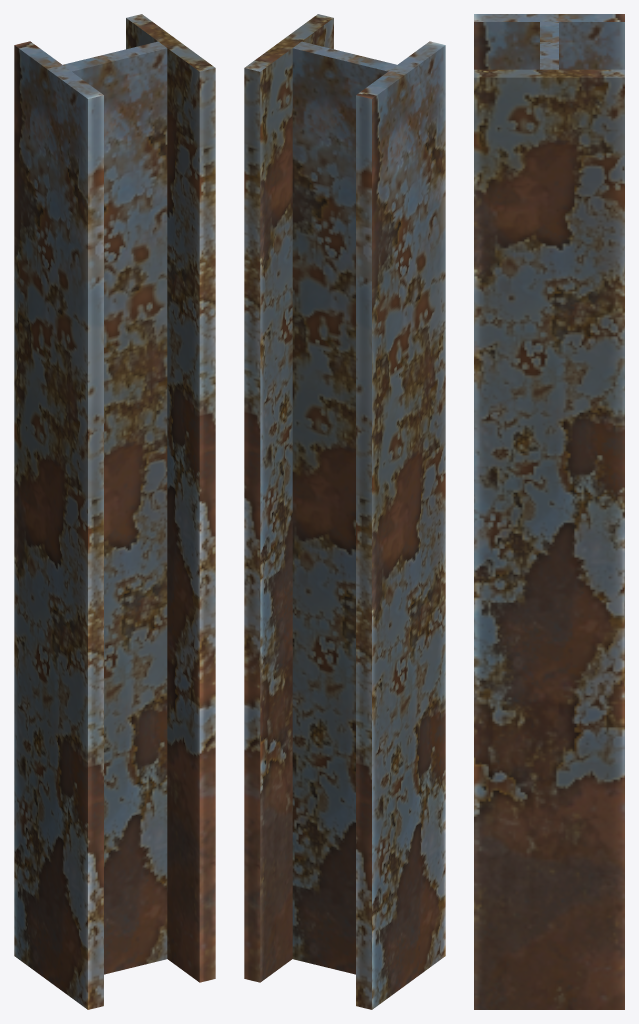
The model's file is platform_leg_1.5m.fbx.
The picture shows the model from 3 angles, left to right: view 1: azimuth 30°, elevation 25°; view 2: azimuth 150°, elevation 25°; view 3: azimuth 270°, elevation 25°; orthographic projection. The views are drawn at different scales.
Parts seen in each view (by area): view 1: platform_leg_1.5m; view 2: platform_leg_1.5m; view 3: platform_leg_1.5m.
Boxes of the visible parts, <box> form: platform_leg_1.5m: <box>14,14,215,1009</box>; platform_leg_1.5m: <box>244,14,445,1009</box>; platform_leg_1.5m: <box>474,14,624,1009</box>.
Size of the model in its own units: 22 by 150 by 22.
